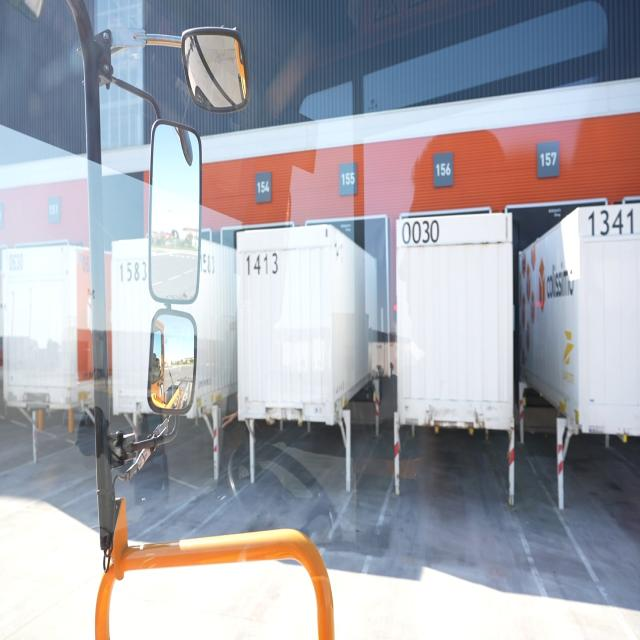Code: (586, 205, 636, 242), (398, 216, 442, 250), (244, 248, 280, 276), (117, 259, 150, 287)
